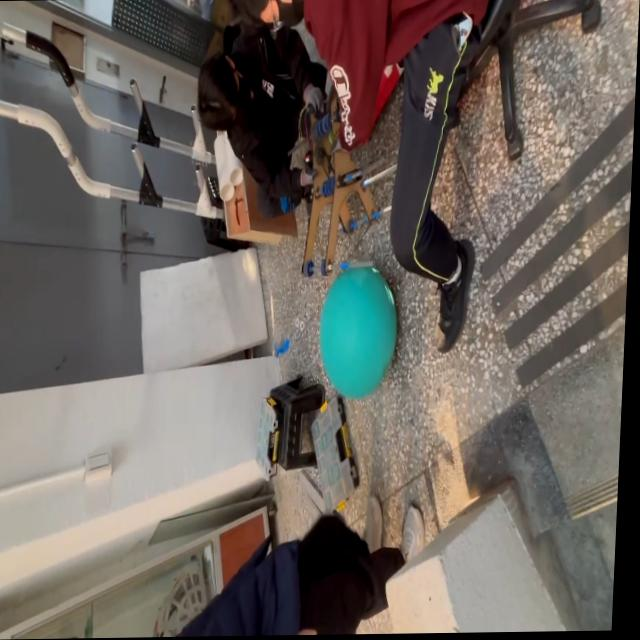ALGAE: (315, 263, 401, 402)
